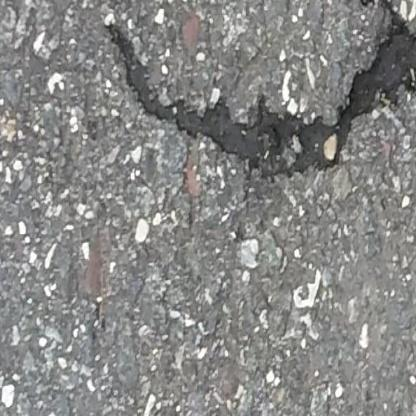Cracks: (102, 0, 416, 199)
